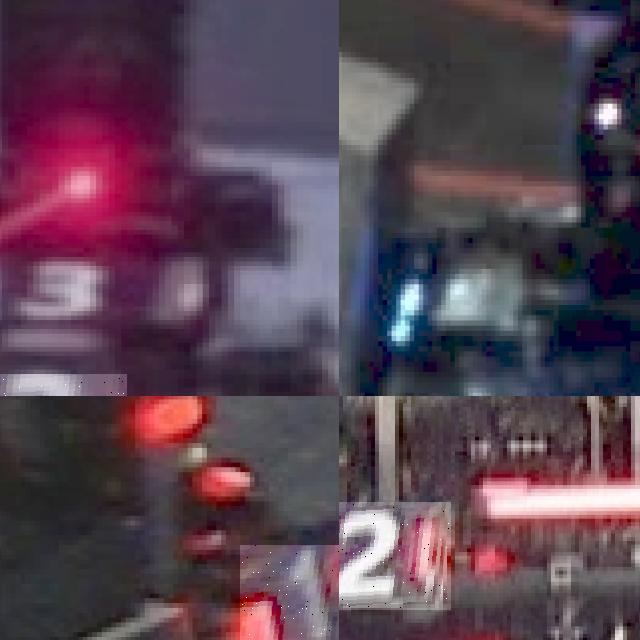R1: (240, 545, 339, 640)
R2: (339, 502, 451, 610)
